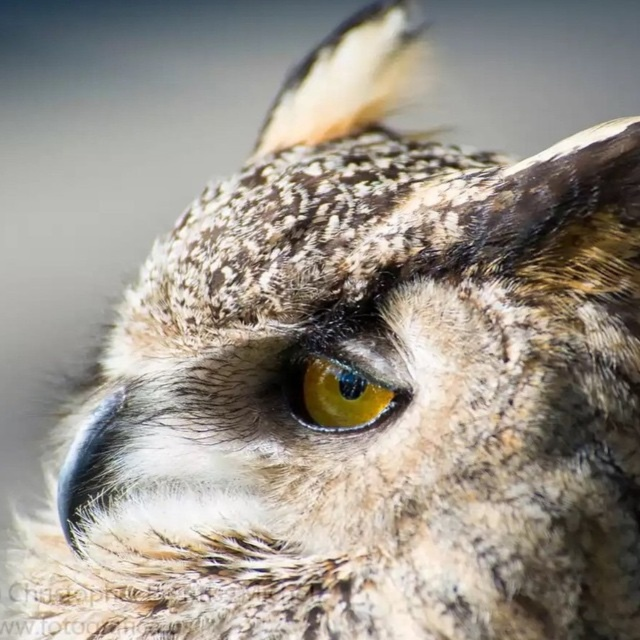Owl: (1, 1, 640, 640)
